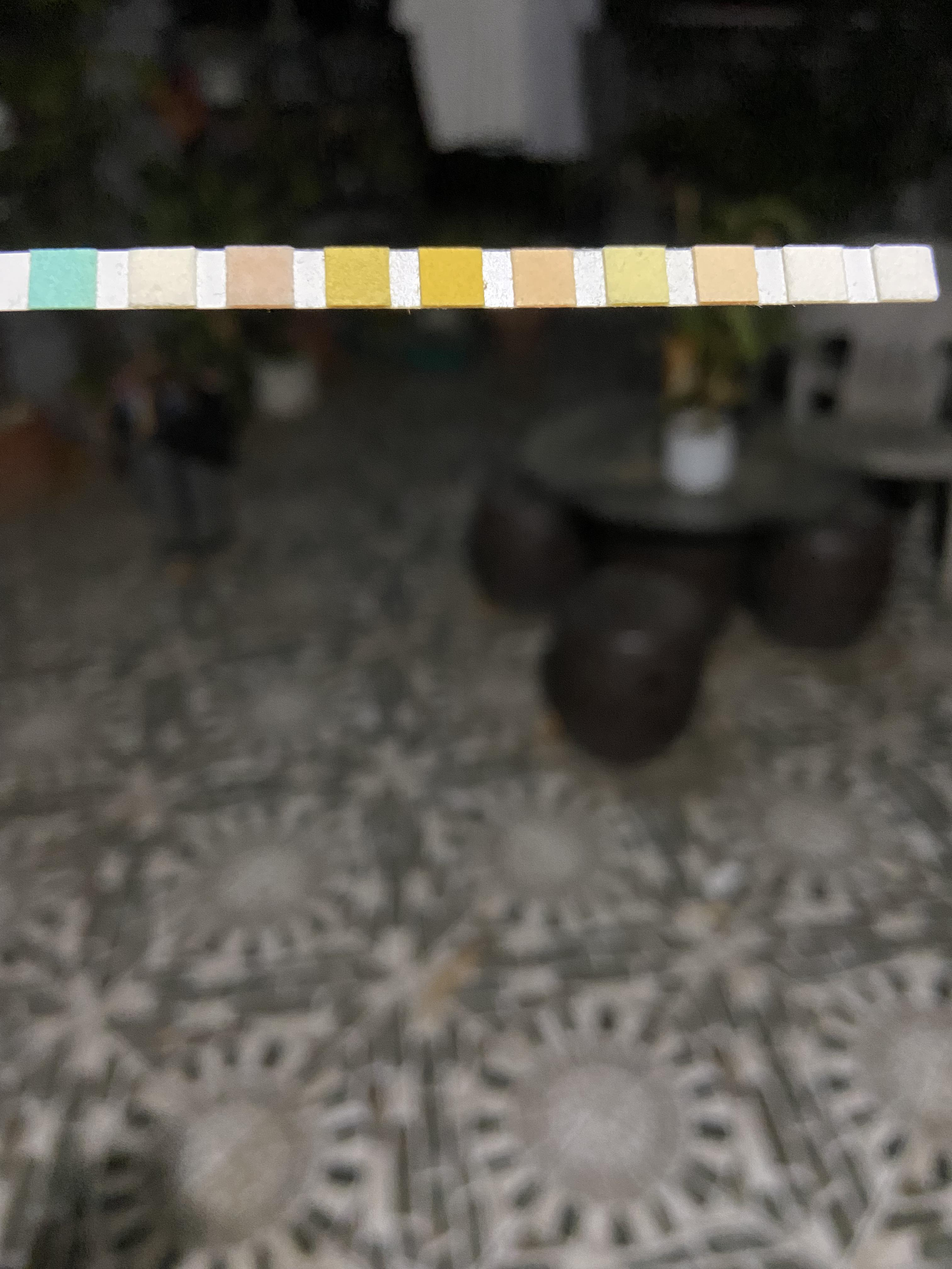Bilirubin: (131, 252, 193, 305)
Blood: (422, 250, 481, 303)
Glucose: (33, 251, 94, 305)
Ketone: (228, 249, 292, 305)
Leukocytes: (882, 249, 930, 298)
Nitrite: (792, 250, 841, 299)
Protein: (610, 250, 664, 301)
SpGravity: (328, 251, 386, 304)
Urobilinogen: (701, 250, 755, 300)
pH: (517, 251, 572, 304)
strip: (0, 244, 939, 311)
